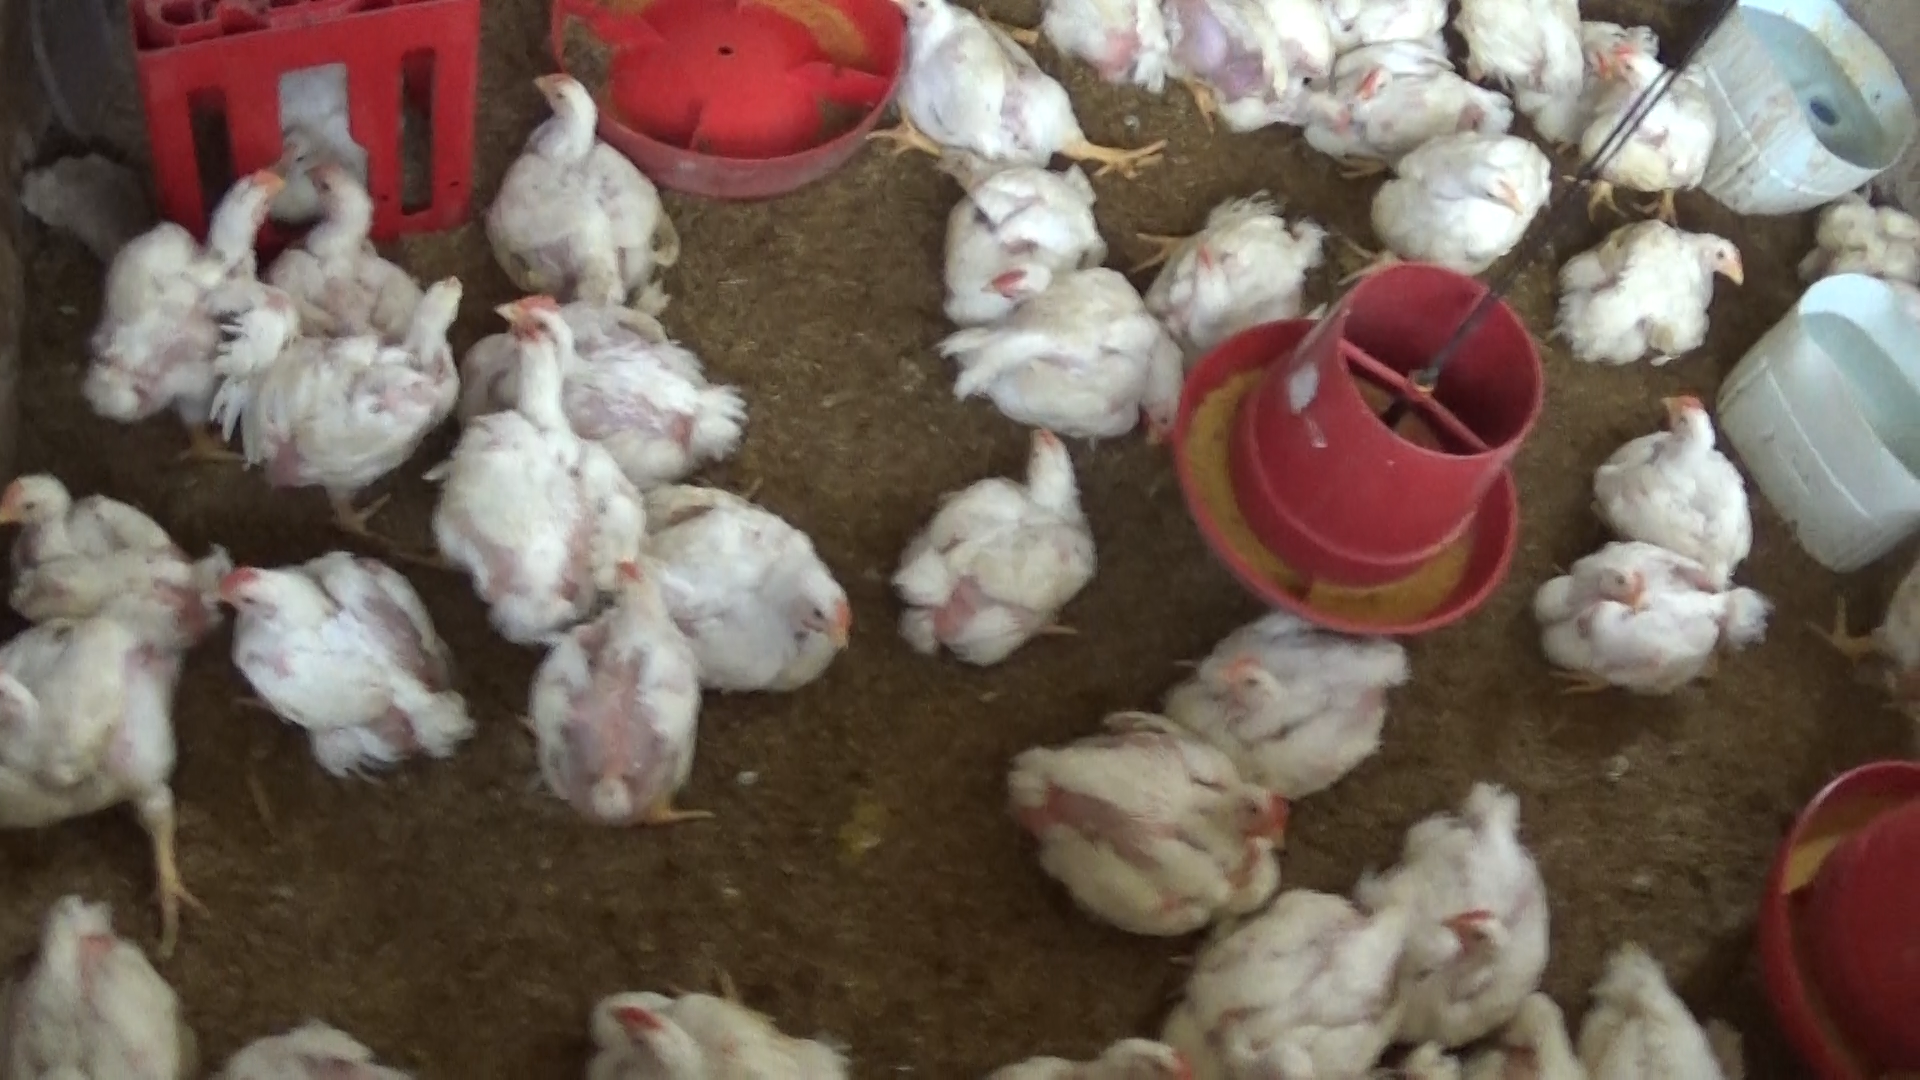Pollos: (0, 588, 231, 911), (225, 257, 491, 533), (997, 688, 1286, 934), (218, 541, 480, 778), (451, 295, 625, 636), (887, 415, 1105, 674), (539, 558, 725, 857), (625, 477, 861, 708), (94, 156, 286, 422), (1375, 757, 1549, 1027), (1168, 599, 1406, 794), (480, 65, 676, 298), (0, 440, 231, 633), (1180, 893, 1440, 1063), (243, 142, 451, 349), (851, 0, 1096, 171), (971, 258, 1187, 444), (1538, 526, 1771, 696), (564, 948, 856, 1080), (1581, 377, 1766, 568), (1549, 204, 1755, 367), (931, 146, 1105, 318), (1592, 34, 1739, 227), (1155, 182, 1323, 349), (1350, 133, 1553, 270), (1443, 0, 1621, 127), (1349, 38, 1515, 156)
